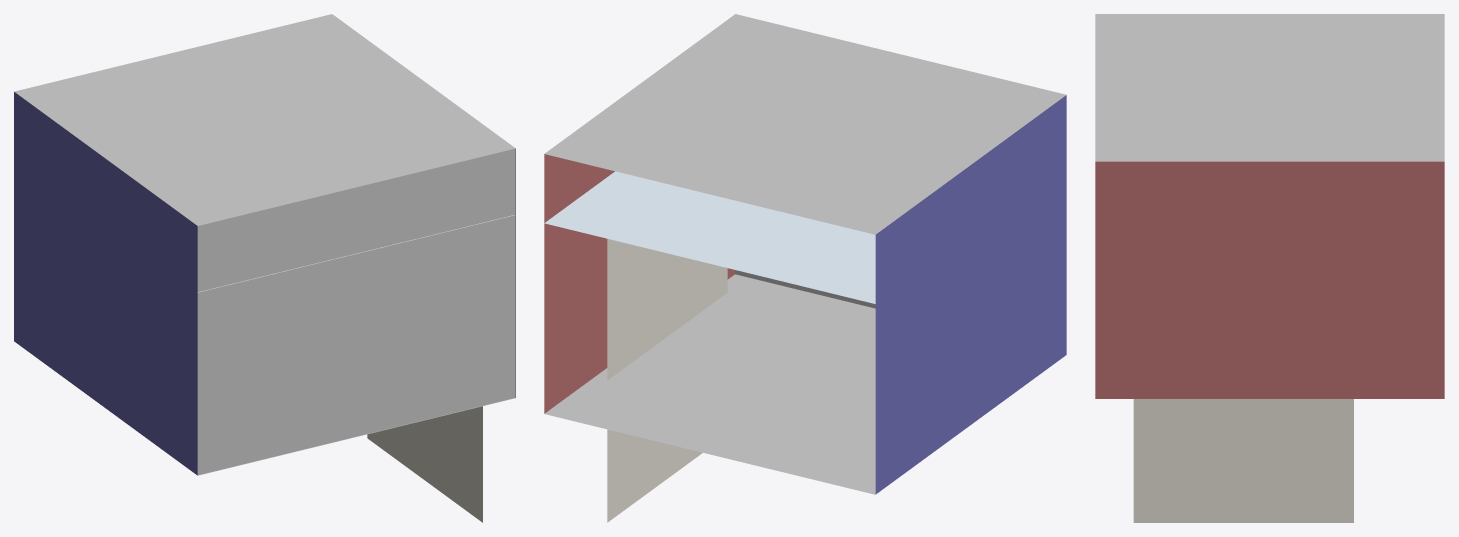
Rendered from CBspheres_underwater_vpm_demo.dae.
3 renders of one model, left to right at view 1: azimuth 30°, elevation 25°; view 2: azimuth 150°, elevation 25°; view 3: azimuth 270°, elevation 25°, orthographic. The views are drawn at different scales.
Parts seen in each view (by area): view 1: backWall, ceiling, rightWall, vpm-reflector; view 2: ceiling, rightWall, floor, water, vpm-reflector, leftWall, backWall; view 3: leftWall, ceiling, vpm-reflector.
Boxes of the visible parts, box(x1,y1,x2,y2) form: backWall: box(197, 148, 515, 475); ceiling: box(14, 14, 515, 225); rightWall: box(14, 92, 197, 475); vpm-reflector: box(367, 406, 482, 522); ceiling: box(544, 14, 1066, 234); rightWall: box(875, 95, 1066, 494); floor: box(544, 274, 875, 494); water: box(544, 171, 875, 303); vpm-reflector: box(607, 239, 727, 522); leftWall: box(544, 154, 734, 413); backWall: box(735, 270, 875, 308); leftWall: box(1095, 161, 1444, 398); ceiling: box(1095, 14, 1444, 161); vpm-reflector: box(1133, 399, 1353, 522).
Size of the model in its own units: 2 by 2 by 2.32.
